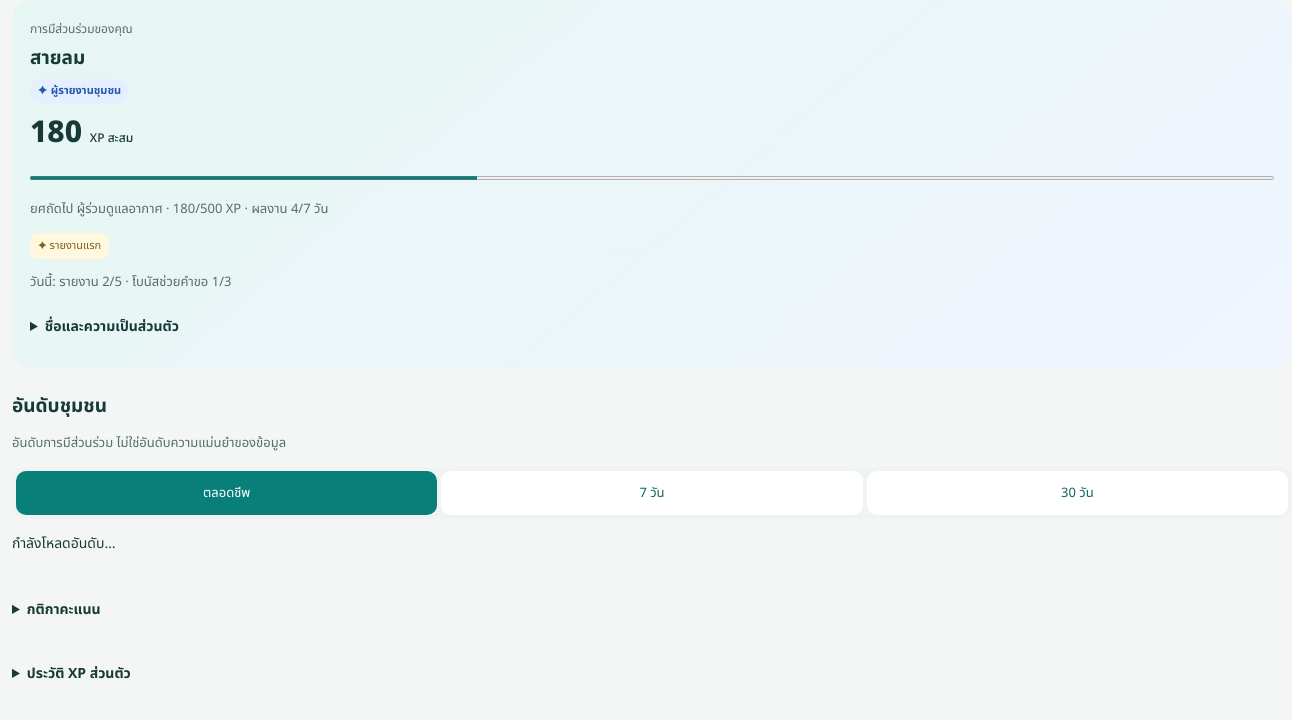
Test: does not let an older period response replace the currently selected period
expect the heading "สายลม" is shown: met, box [30,44,85,73]
Click the button "30 วัน" at [1077, 493], box [867,471,1288,515]
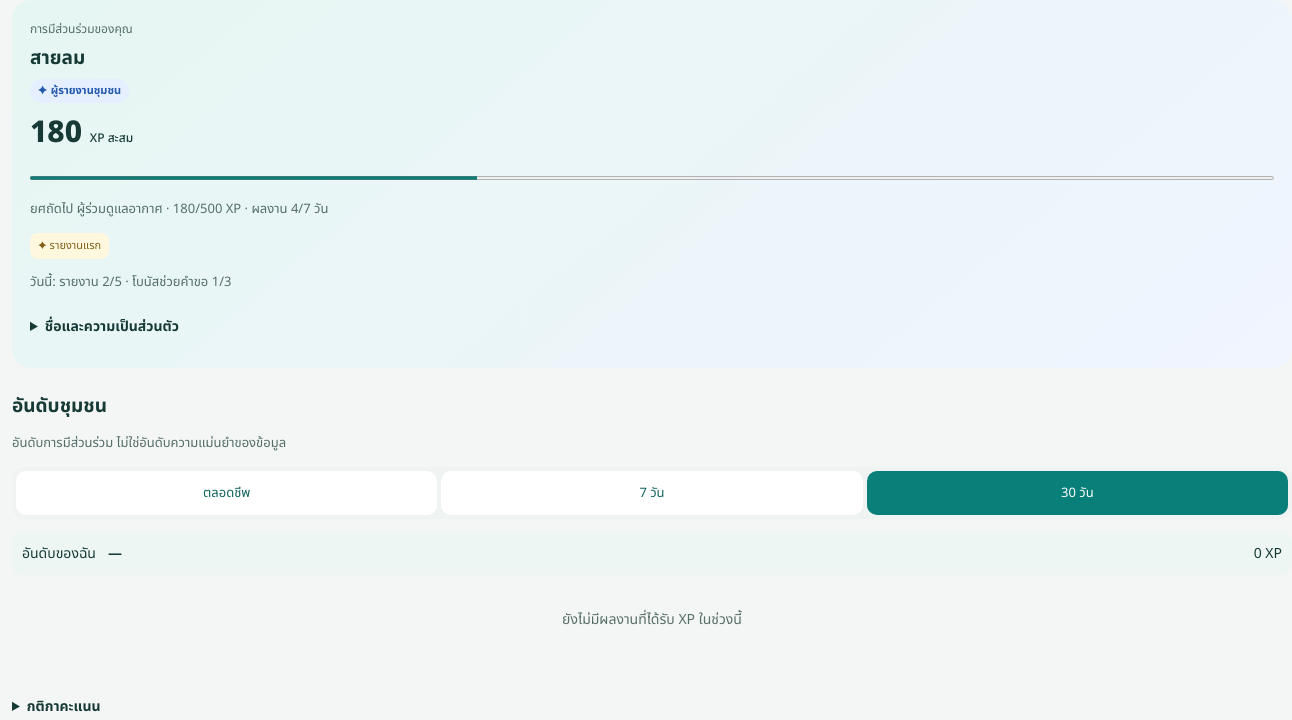
expect the text "ยังไม่มีผลงานที่ได้รับ XP ในช่วงนี้" is shown: met, box [562,609,742,630]
